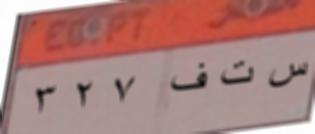2: (74, 79, 95, 110)
3: (32, 84, 59, 115)
7: (111, 73, 137, 105)
faa: (168, 61, 210, 97)
seen: (266, 55, 309, 91)
taa: (218, 61, 255, 90)
